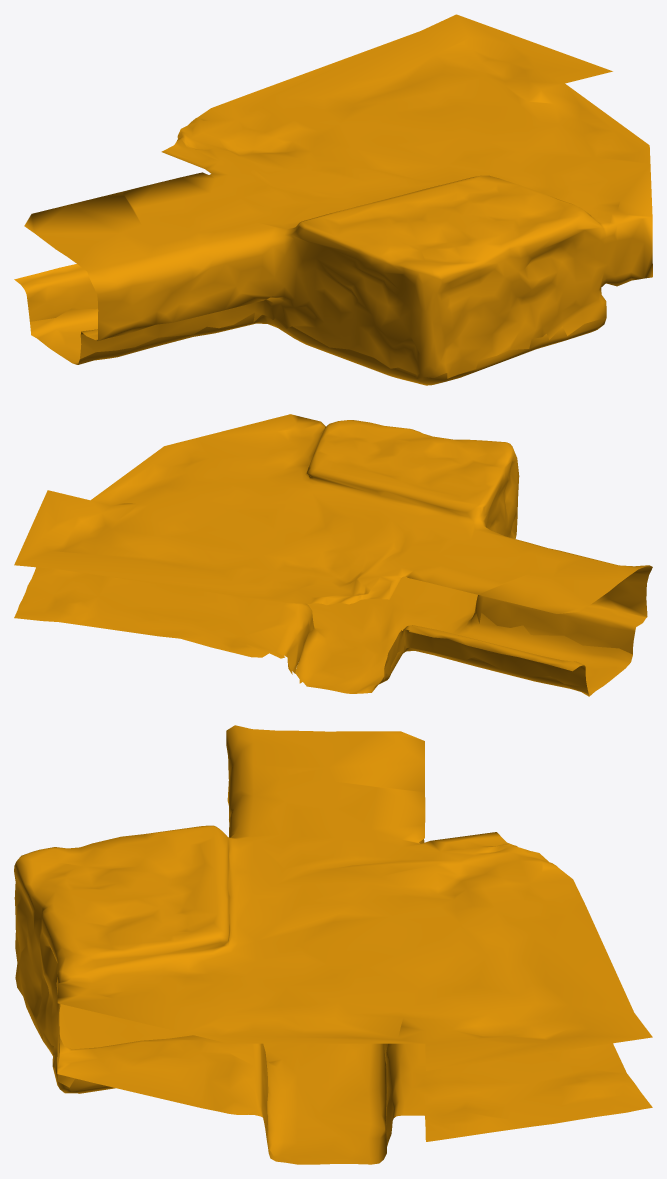
Rendered from Unique 5 .fbx.
3 renders of one model, top to bottom at view 1: azimuth 30°, elevation 25°; view 2: azimuth 150°, elevation 25°; view 3: azimuth 270°, elevation 25°, orthographic. The views are drawn at different scales.
Parts seen in each view (by area): view 1: Unique_005.002, Unique_005.003; view 2: Unique_005.002, Unique_005.003; view 3: Unique_005.002, Unique_005.003.
Boxes of the visible parts, left/top/right/bottom form: Unique_005.002: left=14, top=14, right=652, bottom=378; Unique_005.003: left=30, top=308, right=606, bottom=385; Unique_005.002: left=14, top=414, right=652, bottom=687; Unique_005.003: left=295, top=576, right=632, bottom=696; Unique_005.002: left=14, top=725, right=652, bottom=1146; Unique_005.003: left=26, top=1000, right=387, bottom=1164.
Bounding box in the file's own units: 975 × 189 × 766.
